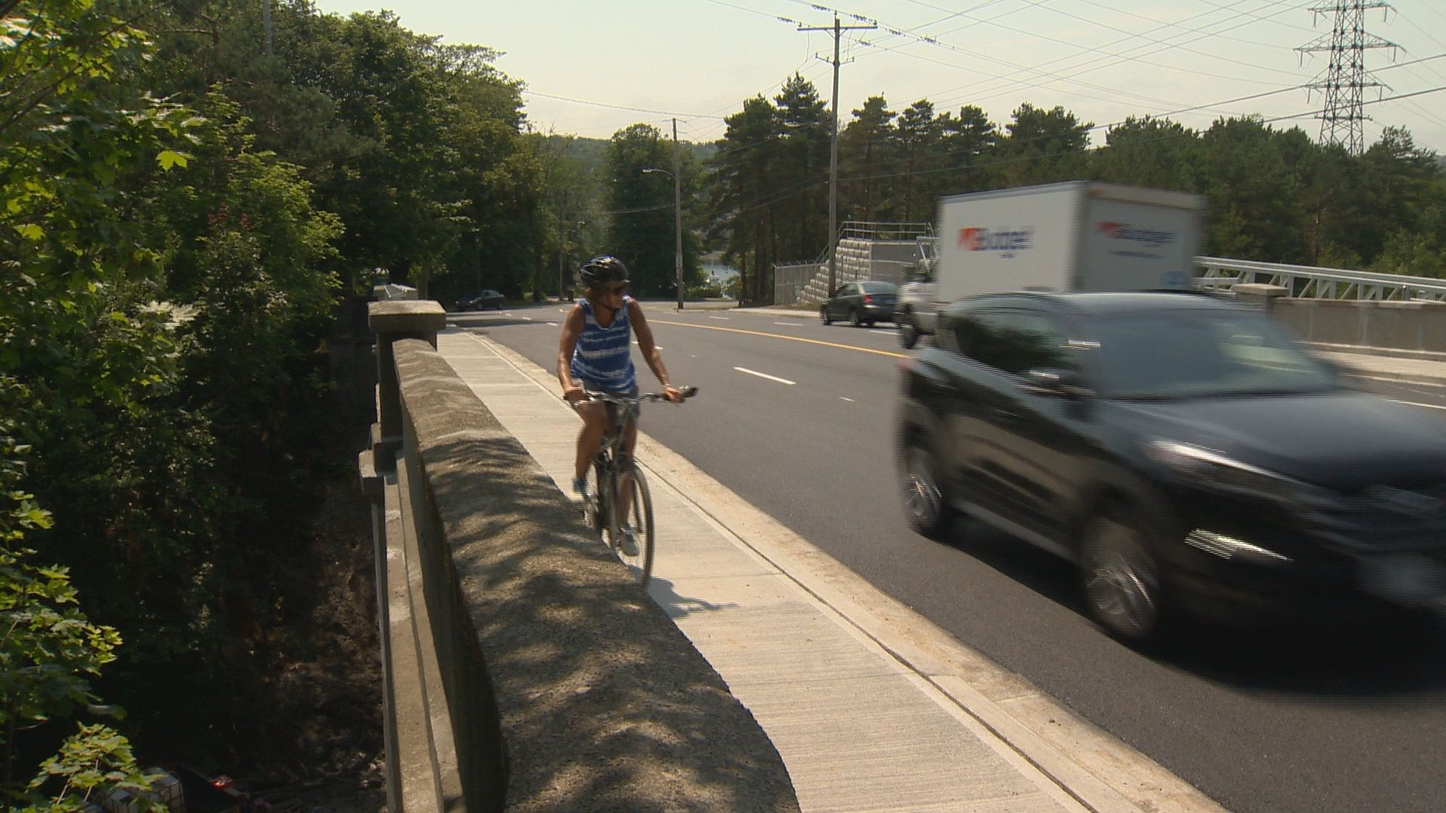Bicycle: (563, 403, 683, 591)
Car: (885, 278, 1446, 693), (800, 272, 911, 334), (453, 280, 527, 321)
Lamp: (652, 116, 713, 311)
Person: (564, 252, 672, 460)
Tree: (3, 23, 344, 813)
